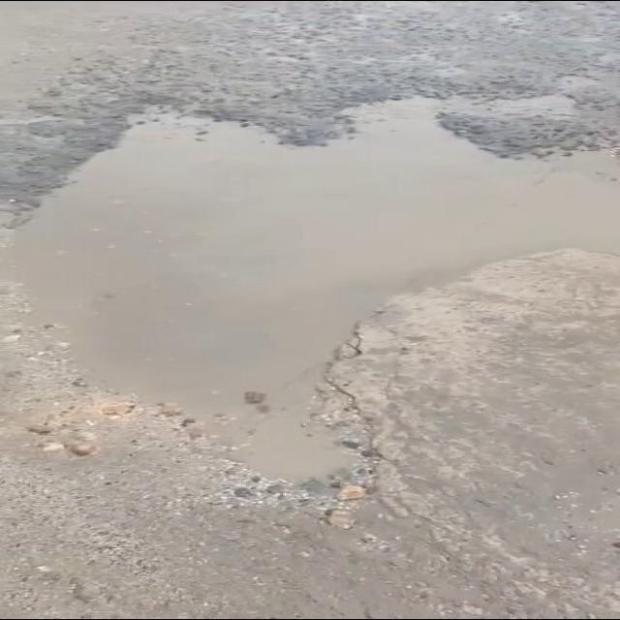lubang: (3, 101, 619, 517)
